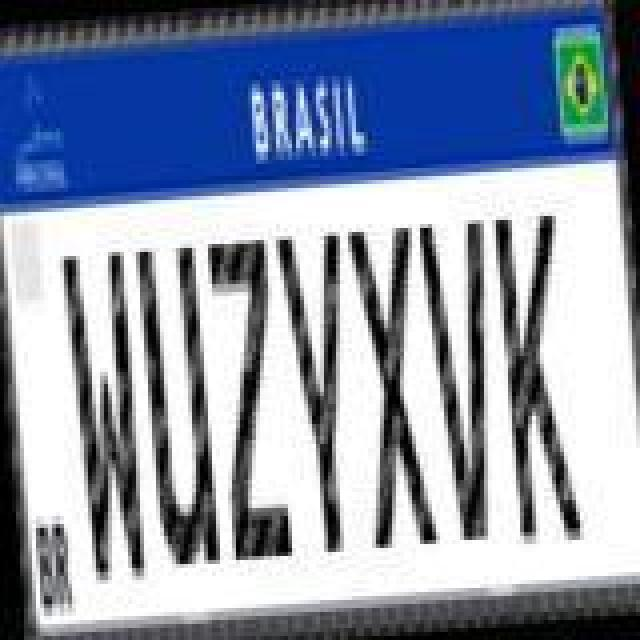K: (492, 208, 588, 552)
U: (132, 242, 220, 574)
V: (416, 214, 512, 546)
W: (58, 246, 150, 586)
X: (344, 220, 440, 556)
Y: (272, 226, 368, 558)
Z: (202, 232, 294, 568)
